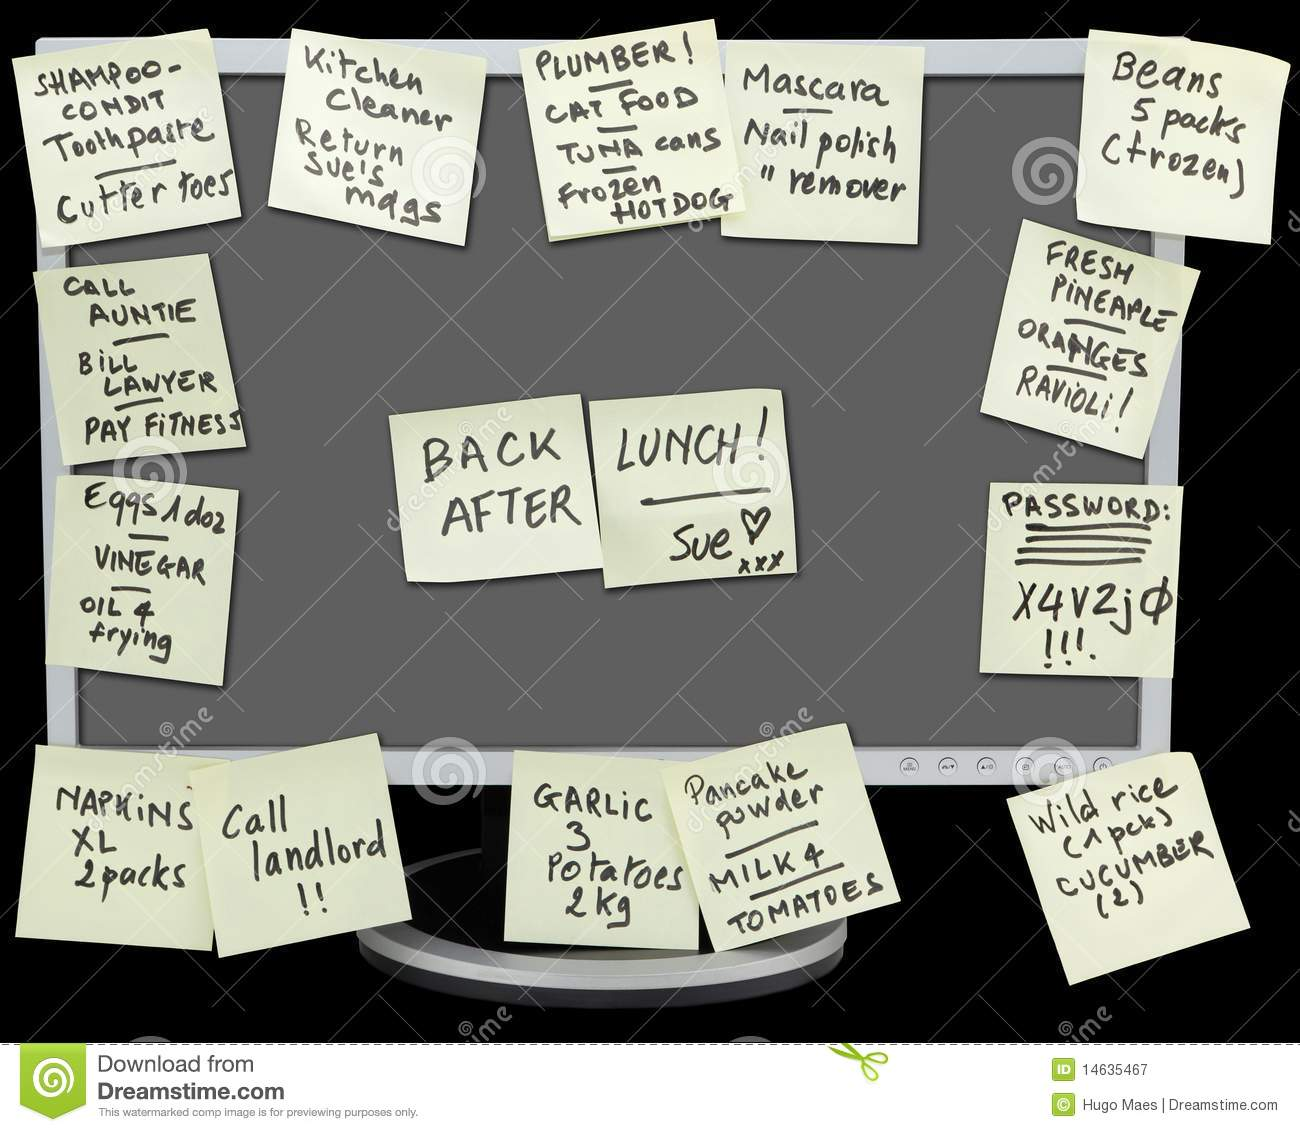Note: (1007, 765, 1262, 978), (675, 729, 911, 943), (983, 227, 1197, 459), (197, 741, 415, 960), (523, 18, 736, 241), (19, 25, 238, 239), (281, 29, 481, 261), (1079, 29, 1285, 253), (974, 478, 1187, 688), (36, 261, 254, 467), (36, 469, 240, 688), (725, 35, 923, 259), (589, 392, 805, 593), (507, 750, 709, 963), (19, 743, 221, 951), (389, 390, 599, 580)
